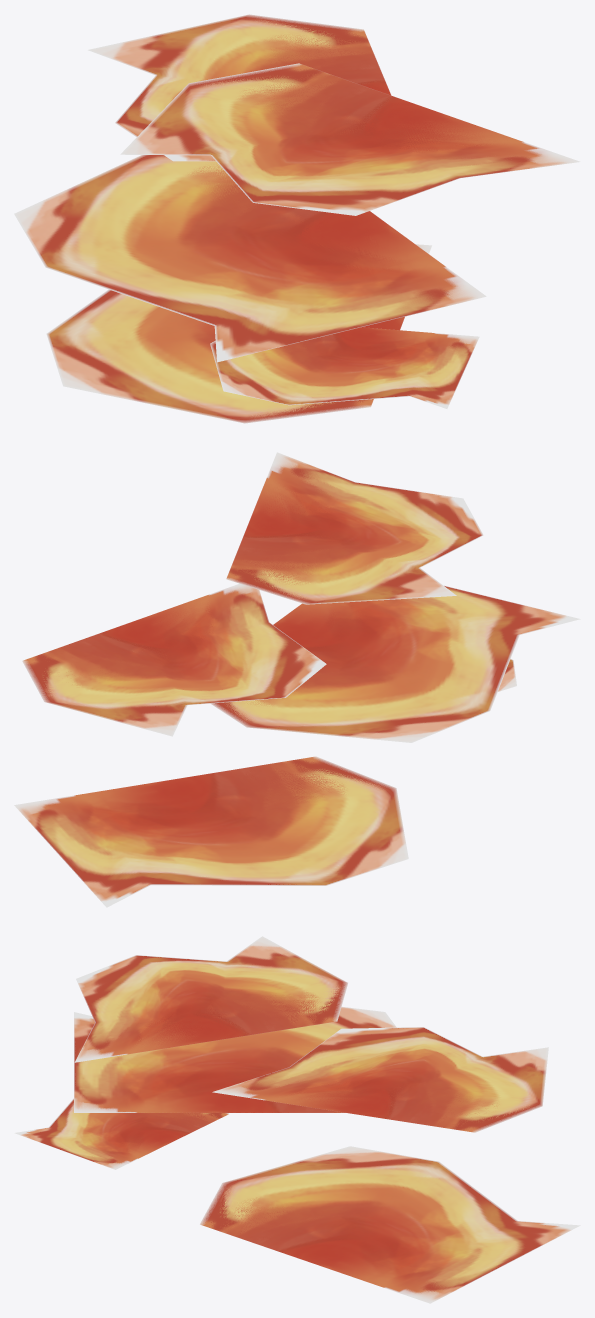
File: bracket fungus.fbx
The picture shows the model from 3 angles, top to bottom: view 1: azimuth 30°, elevation 25°; view 2: azimuth 150°, elevation 25°; view 3: azimuth 270°, elevation 25°; orthographic projection. The views are drawn at different scales.
Visible parts, largest first — view 1: pCube55; view 2: pCube55; view 3: pCube55.
Part boxes in pixels (x1,y1,x2,y2): pCube55: [14, 14, 580, 423]; pCube55: [14, 452, 580, 907]; pCube55: [14, 936, 580, 1303].
Bounding box in the file's own units: 16.63 × 9.08 × 22.25.
